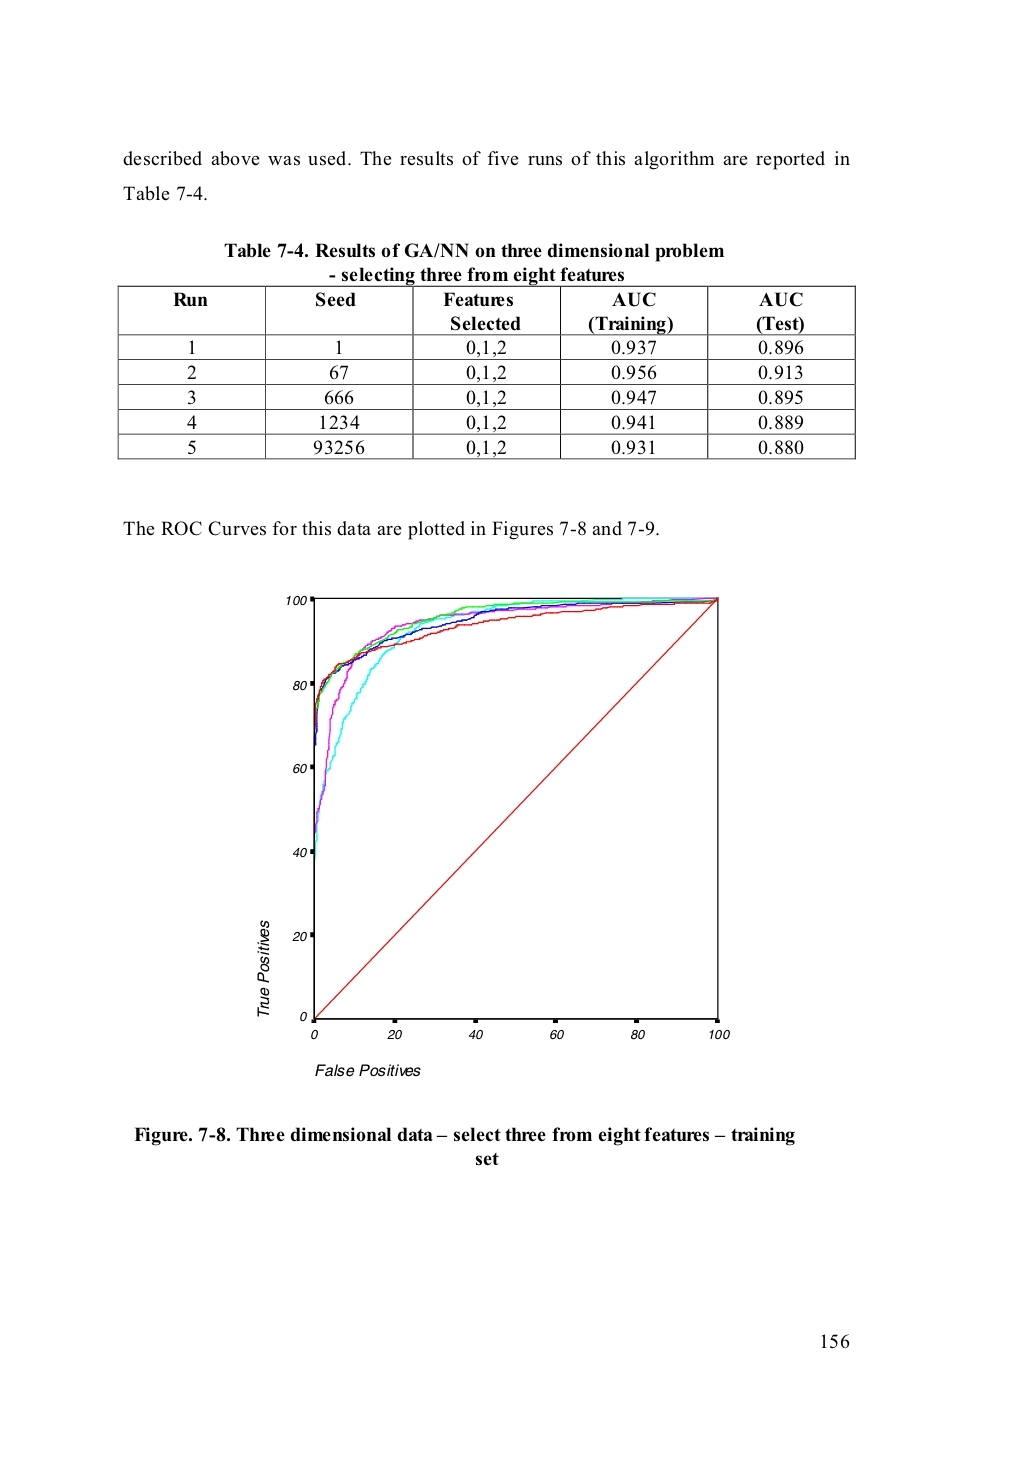Table: (117, 284, 855, 458)
figure: (257, 595, 729, 1076)
